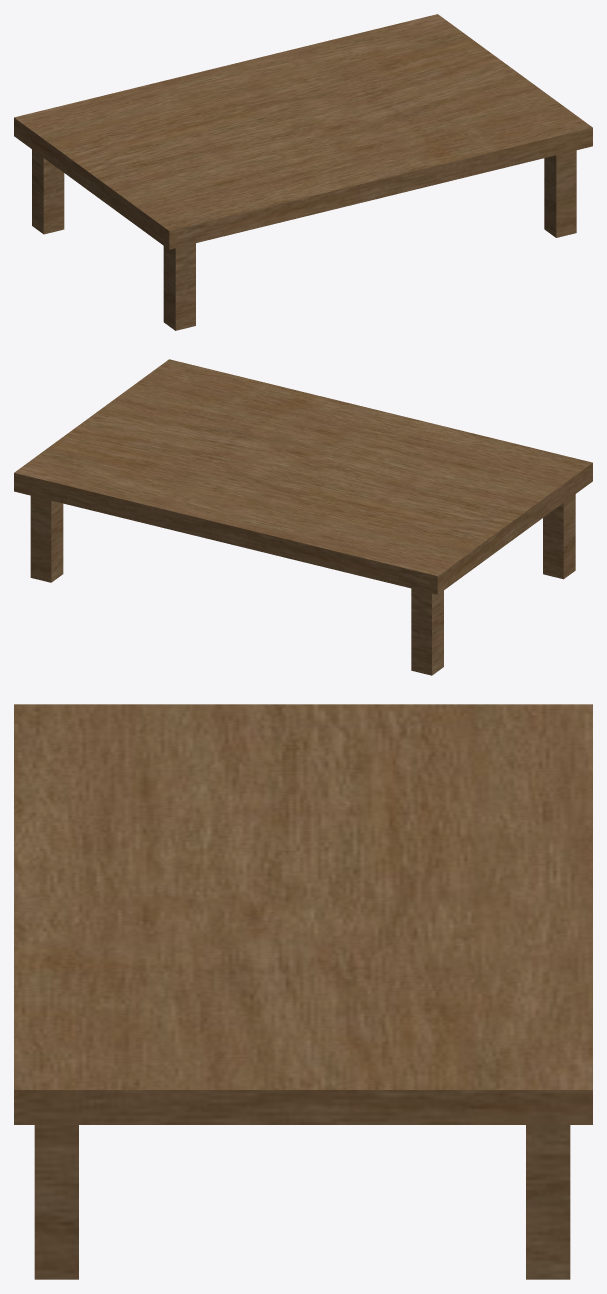
The model's file is tv_table.glb.
The picture shows the model from 3 angles, top to bottom: view 1: azimuth 30°, elevation 25°; view 2: azimuth 150°, elevation 25°; view 3: azimuth 270°, elevation 25°; orthographic projection. The views are drawn at different scales.
Parts seen in each view (by area): view 1: Cube.200; view 2: Cube.200; view 3: Cube.200.
Part boxes in pixels (x1,y1,x2,y2): Cube.200: (14, 14, 592, 330); Cube.200: (14, 359, 592, 675); Cube.200: (14, 704, 592, 1279).
Size of the model in its own units: 3.58 by 0.8622 by 2.27.
Materials: 1 (1 with a texture image).
